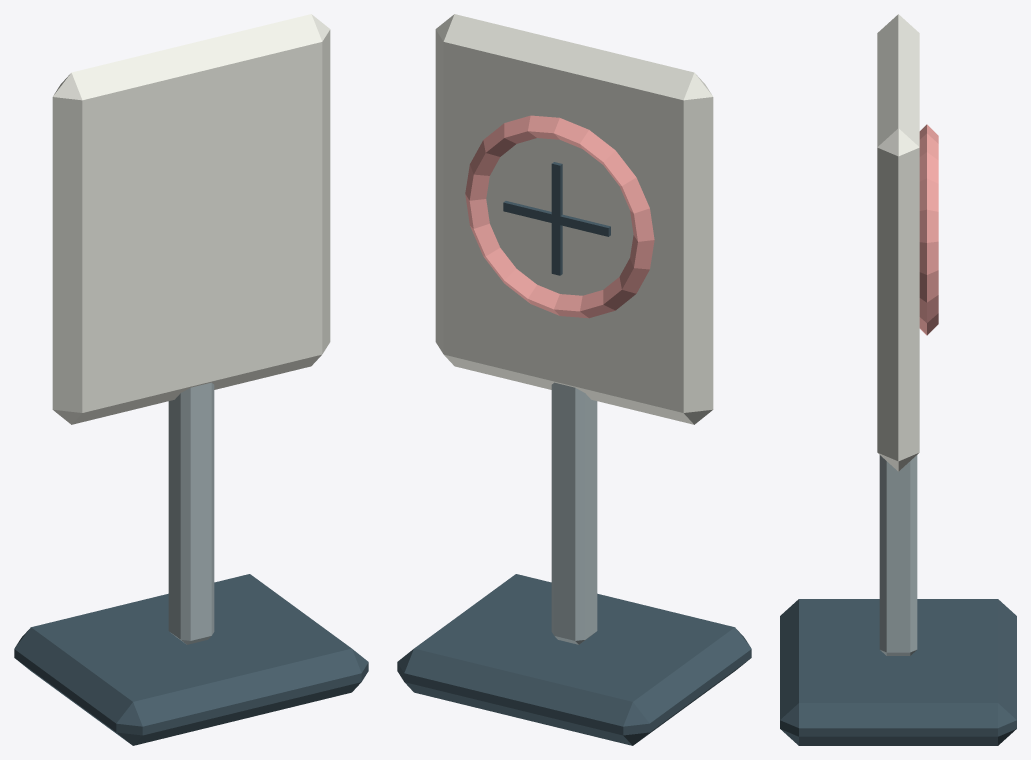
Rendered from target.glb.
The picture shows the model from 3 angles, left to right: view 1: azimuth 30°, elevation 25°; view 2: azimuth 150°, elevation 25°; view 3: azimuth 270°, elevation 25°; orthographic projection. The views are drawn at different scales.
Parts seen in each view (by area): view 1: target_board, asset_target__FP_Dark, post; view 2: target_board, asset_target__FP_Dark, bullseye, post; view 3: asset_target__FP_Dark, target_board, post, bullseye.
Boxes of the visible parts, <box> form: target_board: <box>52,14,330,424</box>; asset_target__FP_Dark: <box>14,574,368,745</box>; post: <box>168,382,214,644</box>; target_board: <box>435,14,713,424</box>; asset_target__FP_Dark: <box>397,162,751,745</box>; bullseye: <box>465,115,654,318</box>; post: <box>551,382,597,644</box>; asset_target__FP_Dark: <box>780,599,1016,745</box>; target_board: <box>877,14,919,471</box>; post: <box>879,455,917,655</box>; bullseye: <box>919,124,938,335</box>.
Bounding box in the file's own units: 0.66 × 1.45 × 0.5.
